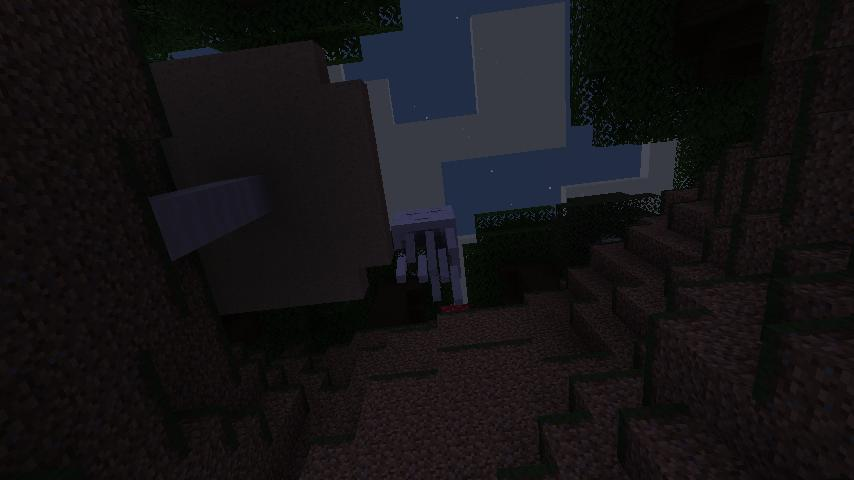ghast: (388, 202, 465, 309)
